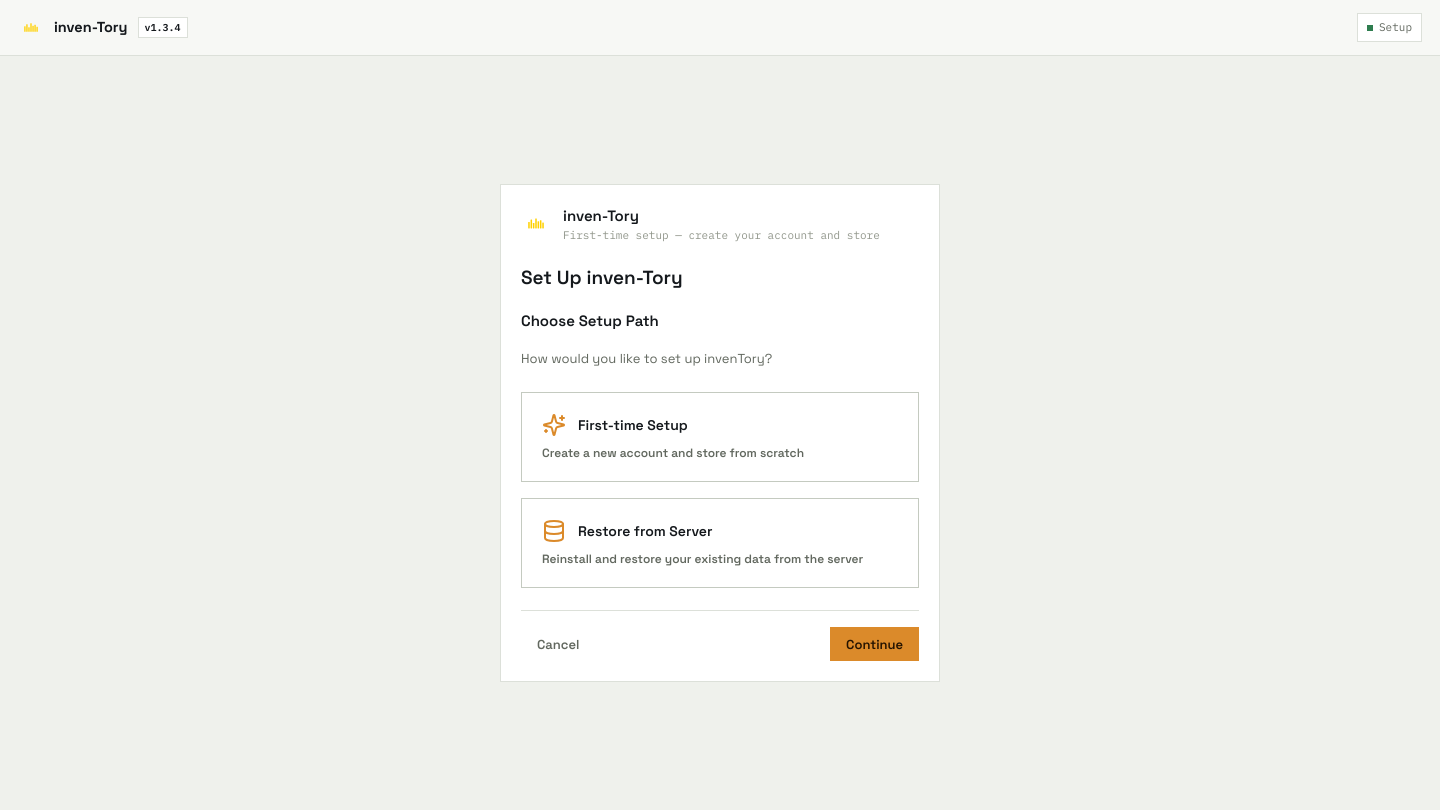
Scenario: GenesisWizard — Setup Path Selection › navigates to restore mode when Restore from Server is clicked
Click the text "Restore from Server".
click(645, 531)  # box [578,522,712,540]
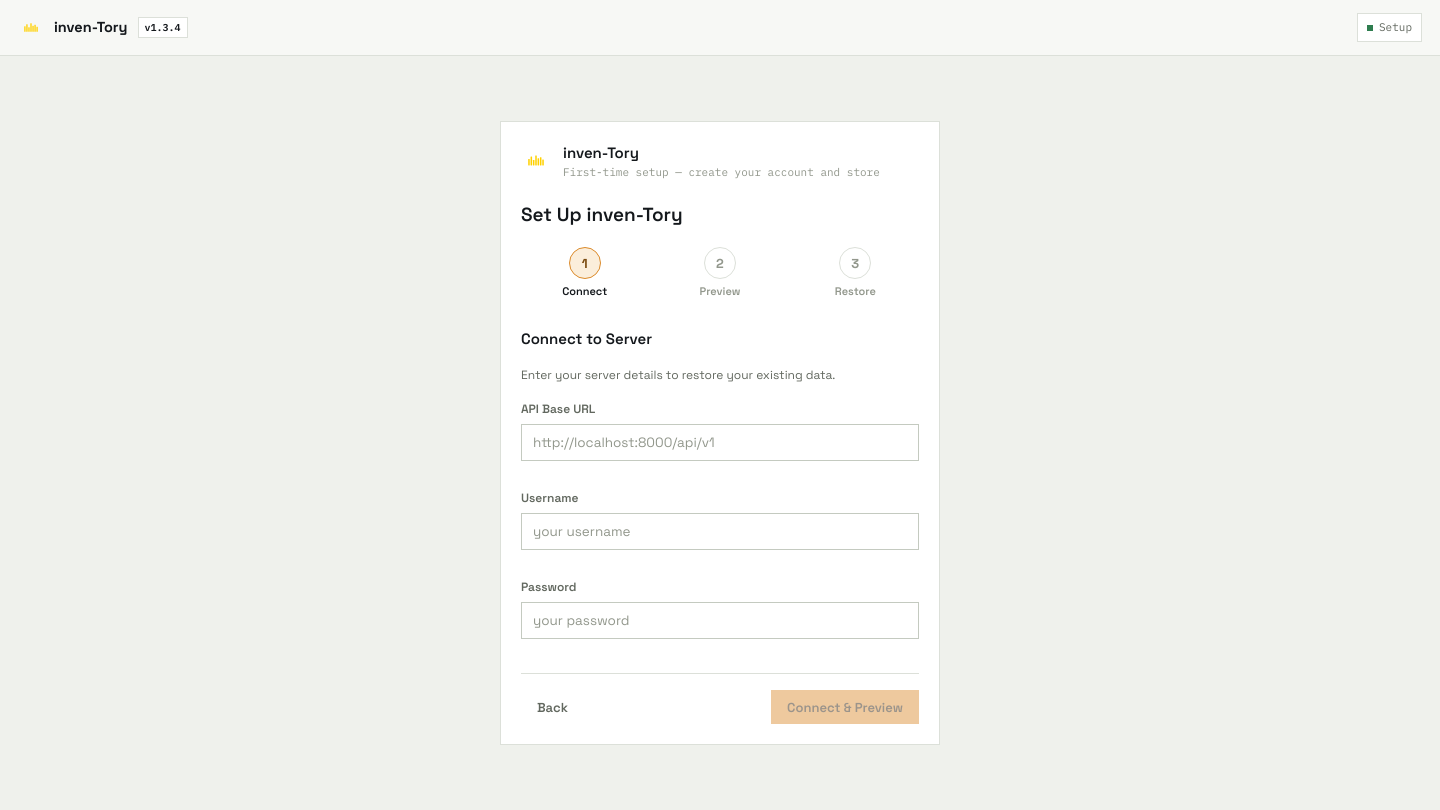
Expected: the heading "Connect to Server" is shown, [521,329,652,348]
